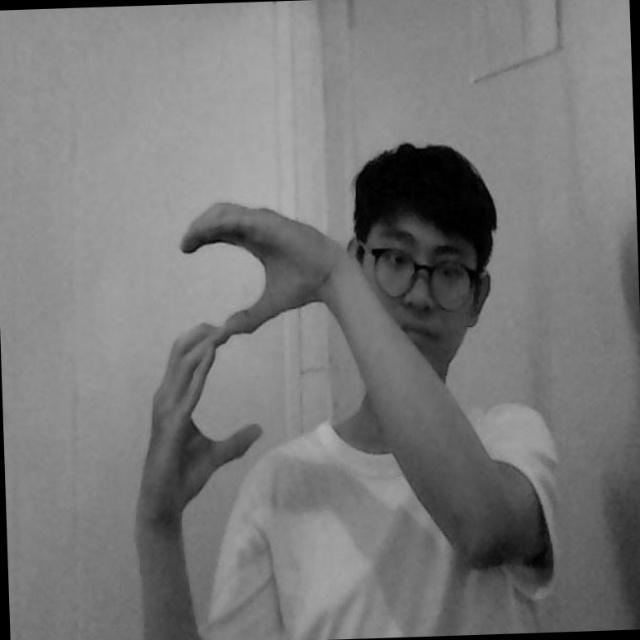S: (136, 191, 310, 485)
